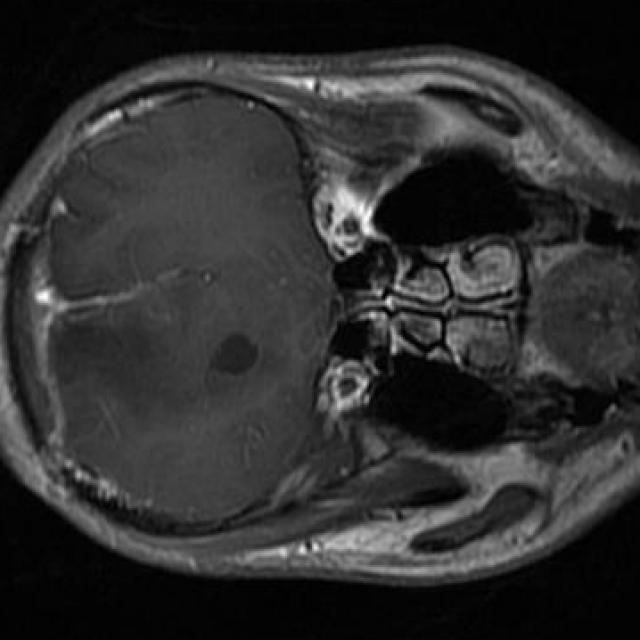glioma: (48, 307, 155, 389)
